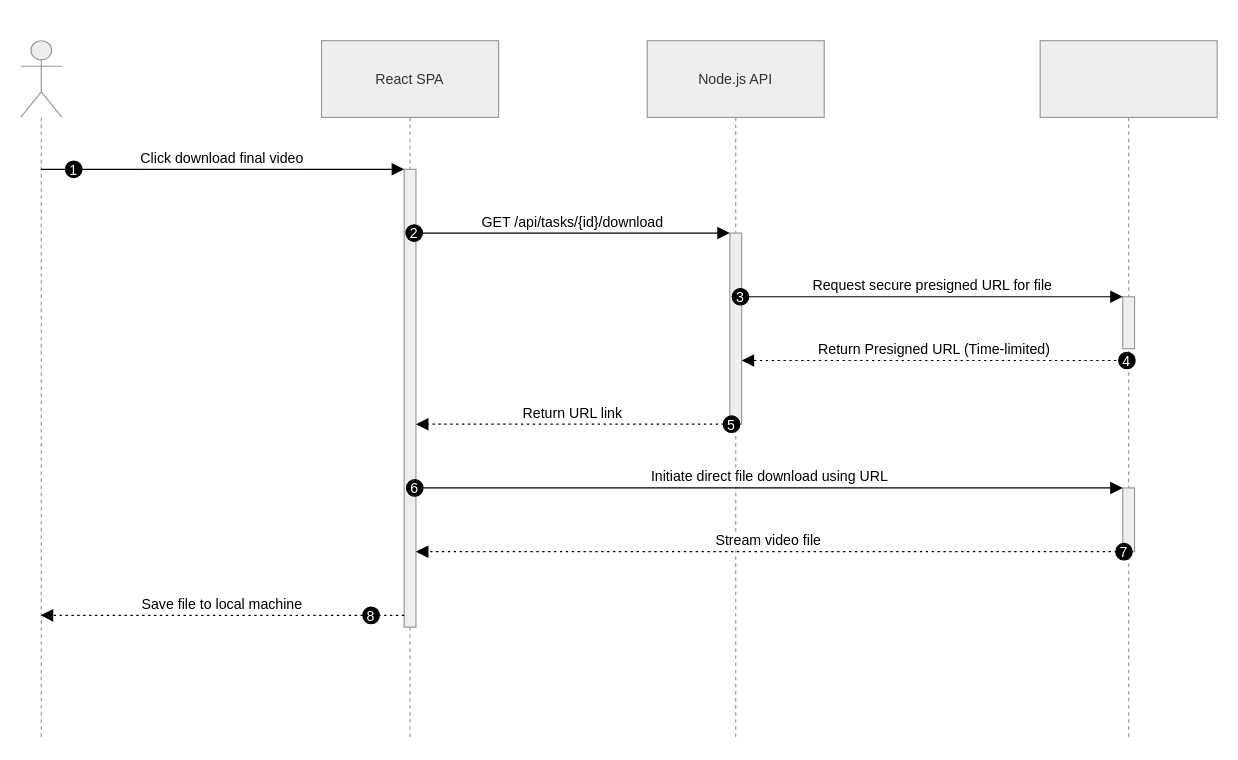
Image size: 1238x760. Some labels were removed from this diagram. Here are the shapes that lost their labels. From the top down, the box of each, then its label:
(19, 40, 62, 739): Client
(1039, 40, 1217, 739): S3
